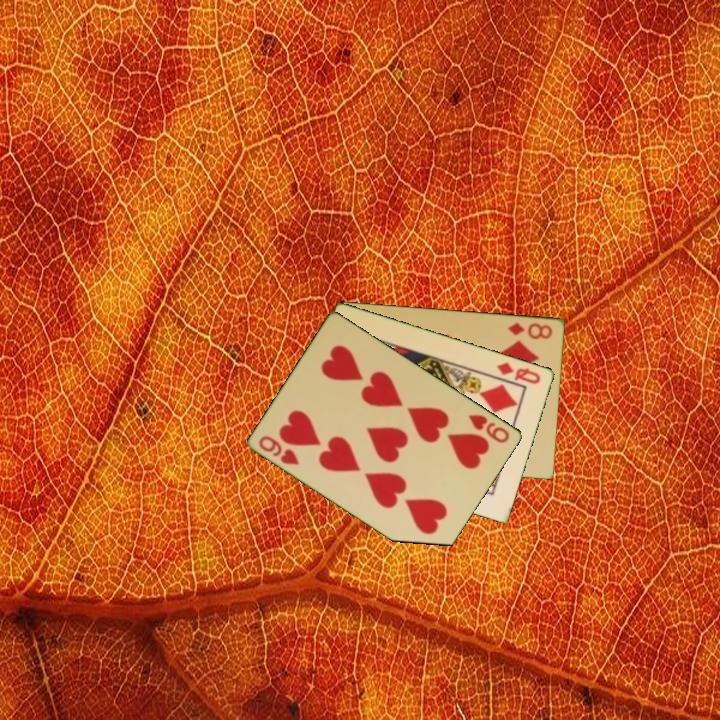8d: (505, 318, 555, 342)
9h: (255, 432, 303, 468), (465, 411, 513, 446)
Qd: (493, 358, 544, 387)
